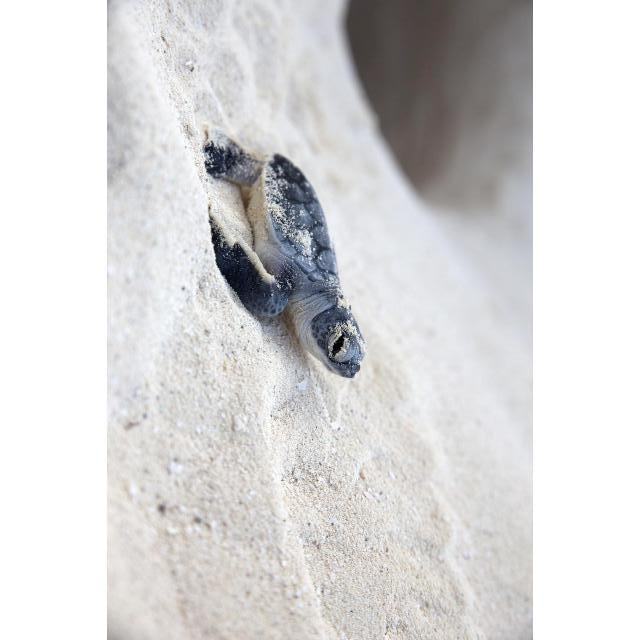turtle: (201, 133, 364, 380)
